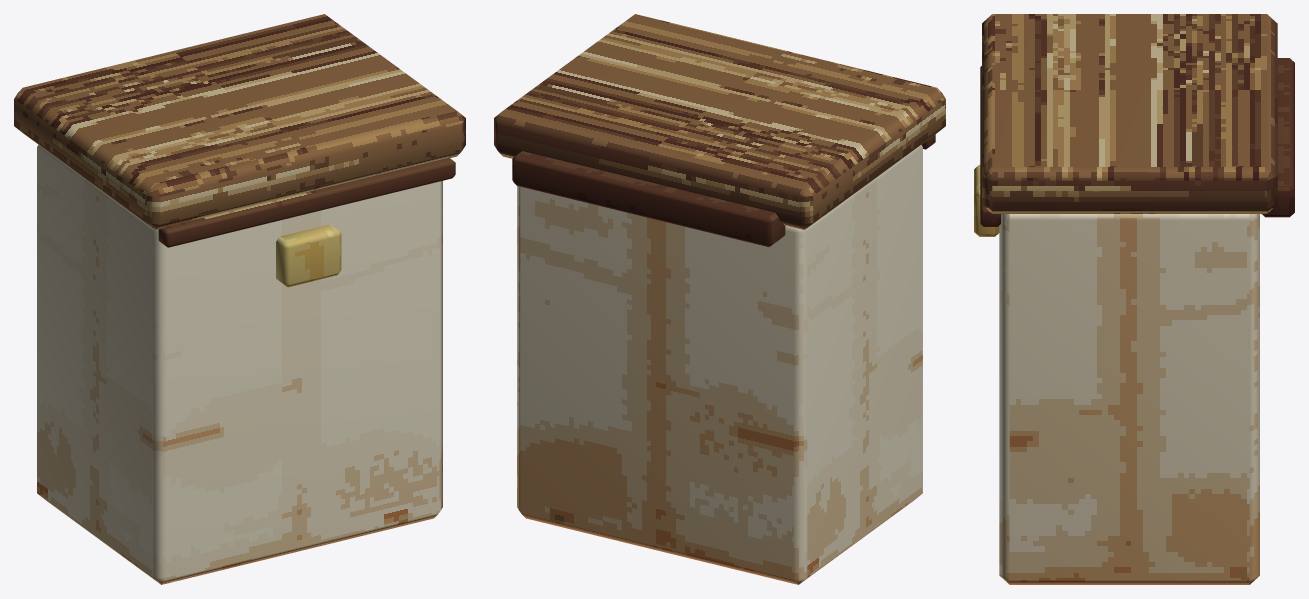
The model's file is milk_box.glb.
3 views of the same model, side by side, from view 1: azimuth 30°, elevation 25°; view 2: azimuth 150°, elevation 25°; view 3: azimuth 270°, elevation 25° (orthographic). The views are drawn at different scales.
Parts seen in each view (by area): view 1: mesh; view 2: mesh; view 3: mesh.
Part boxes in pixels (x1,y1,x2,y2): mesh: (14,14,465,584); mesh: (494,14,945,584); mesh: (974,14,1294,584).
Size of the model in its own units: 0.22 by 0.27 by 0.1845.
1 material, 1 textured.
